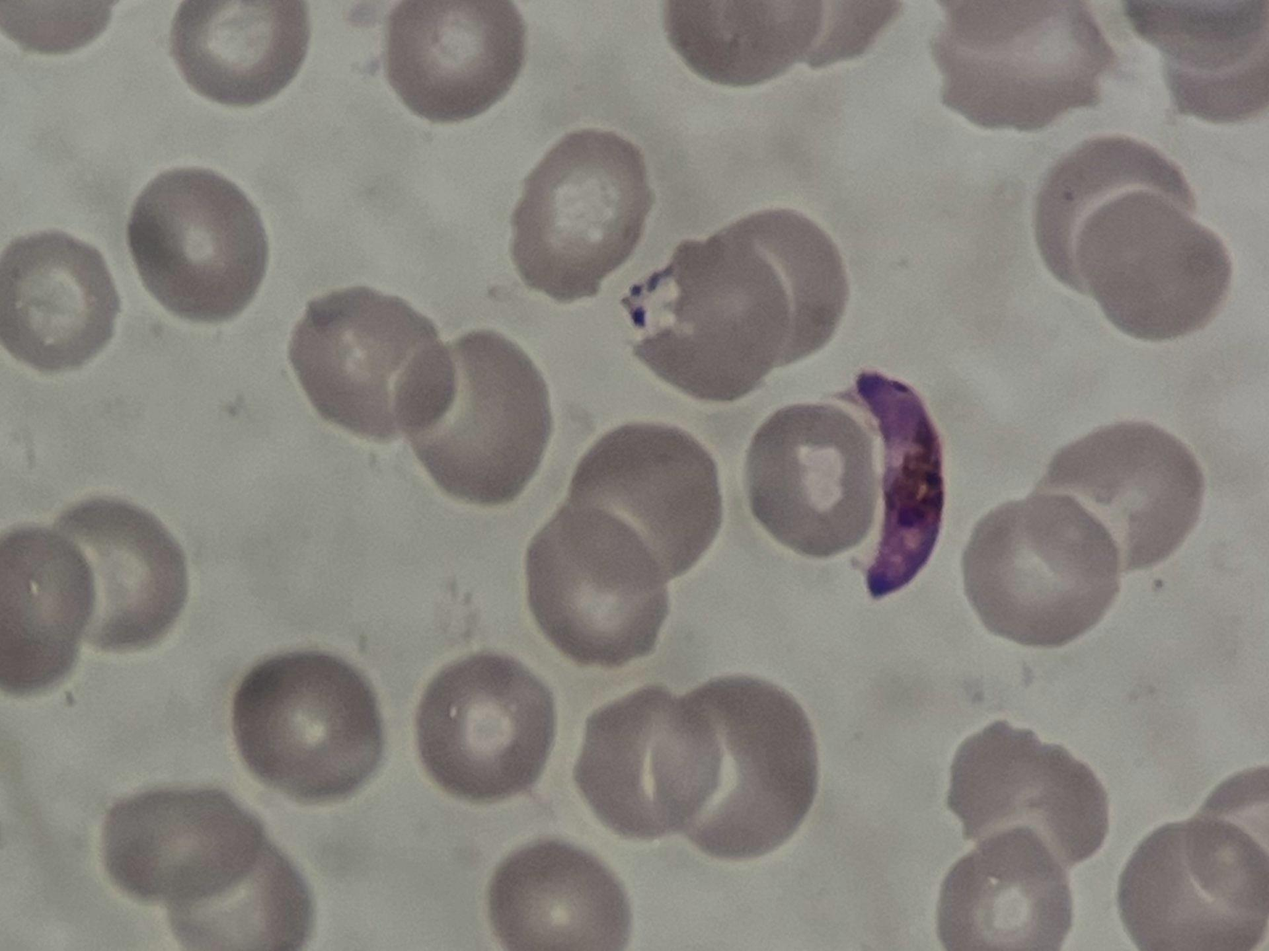Infected: (623, 230, 790, 404), (843, 369, 944, 600)
Uninfected: (651, 674, 818, 857), (397, 327, 551, 506), (507, 124, 658, 304), (289, 286, 455, 445), (1034, 422, 1201, 577), (948, 722, 1110, 877), (1036, 139, 1194, 296), (1074, 187, 1231, 342), (958, 493, 1115, 647), (929, 0, 1108, 135), (697, 207, 845, 366), (575, 425, 721, 585), (43, 496, 190, 654), (575, 686, 725, 839), (124, 164, 265, 325), (522, 509, 666, 664), (233, 650, 384, 796), (745, 402, 885, 557), (1117, 817, 1269, 951), (415, 653, 553, 800), (104, 785, 265, 903), (164, 833, 313, 951), (383, 0, 523, 123), (939, 825, 1075, 951), (0, 230, 120, 372), (482, 843, 630, 951), (169, 0, 310, 107)
